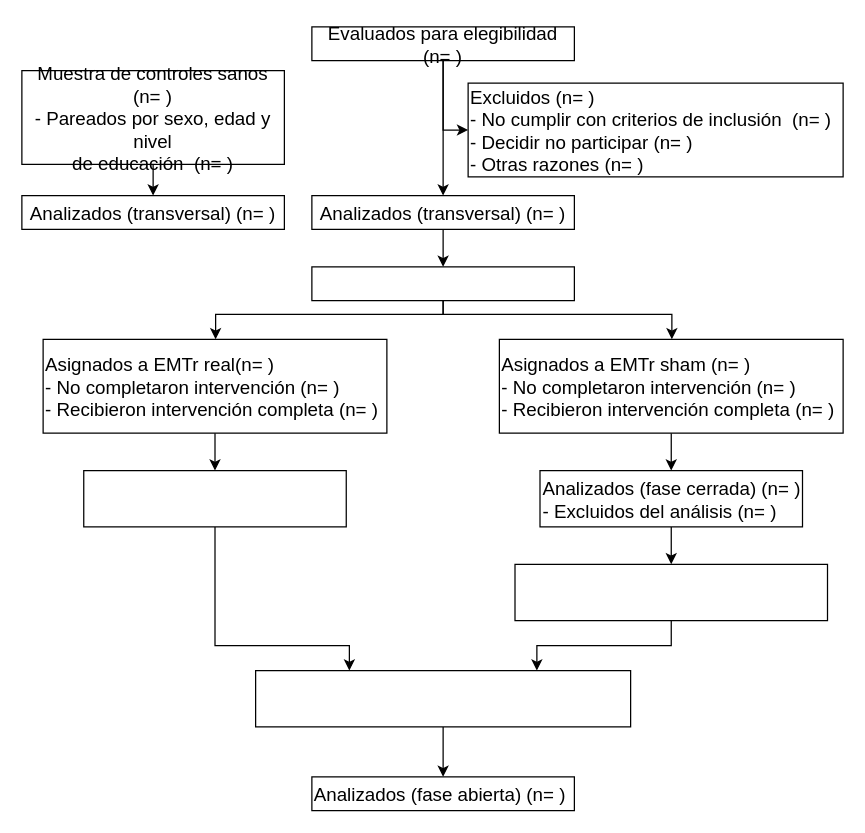
This 865x833 diagram has some shape labels left out. The centre of each missing label's shape, as x and y in pixels:
Aleatorizados (n= ): (x=442, y=283)
Analizados(fase cerrada) (n= ) - Excluidos del análisis (n= ): (x=214, y=498)
Descontinuaron intervención (n= ) Completaron EMTr de mantenimiento (n= ): (x=442, y=698)
Descontinuaron intervención (n= ) Completaron EMTr real (n= ): (x=671, y=592)
